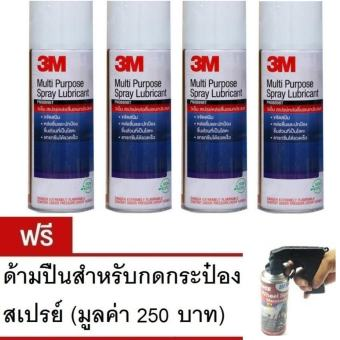Aerosol_cans: (258, 1, 326, 216), (105, 1, 173, 215), (181, 1, 248, 214), (29, 1, 95, 214)
